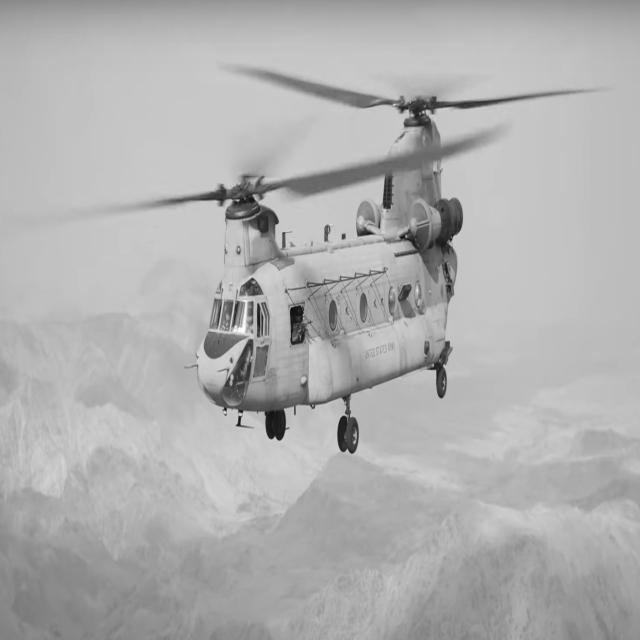Helicopter: (53, 66, 596, 453)
